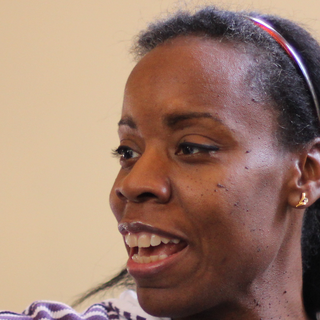eye: (162, 138, 228, 167), (107, 139, 149, 165)
